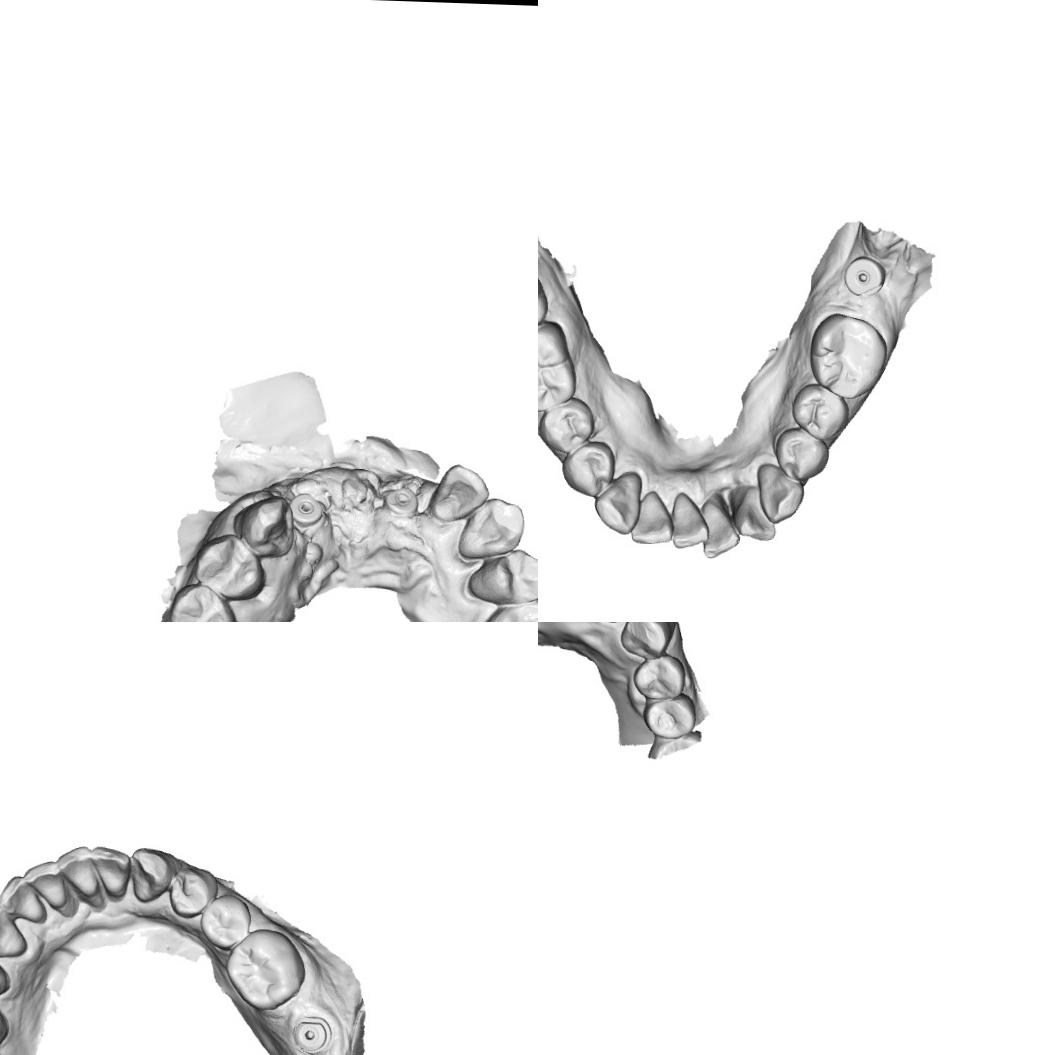canine: (455, 496, 530, 560), (233, 494, 297, 557), (592, 468, 646, 536), (753, 461, 808, 526), (126, 846, 176, 904), (618, 622, 677, 658), (0, 904, 29, 959)
implant: (841, 252, 888, 302), (290, 1012, 332, 1055), (386, 482, 420, 518), (292, 493, 325, 526)
incisor: (429, 461, 492, 522), (730, 485, 780, 543), (666, 489, 711, 552), (628, 488, 675, 548), (87, 842, 134, 900), (699, 497, 742, 560), (22, 856, 70, 912), (56, 844, 101, 900), (0, 874, 48, 925)
molar: (804, 310, 892, 402), (222, 925, 307, 1014), (538, 317, 579, 415)
premolar: (194, 532, 268, 603), (463, 544, 538, 609), (787, 381, 851, 444), (558, 436, 618, 499), (771, 424, 832, 484), (538, 395, 597, 457), (198, 892, 252, 952), (166, 579, 241, 622), (165, 864, 218, 918), (641, 691, 696, 740), (632, 653, 686, 701), (471, 595, 538, 622), (0, 950, 13, 999)
